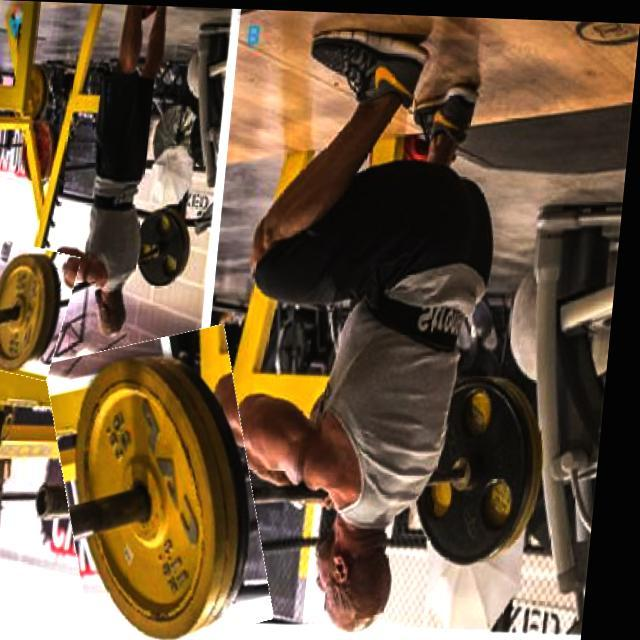barbell: (50, 329, 289, 640), (1, 242, 83, 378)
